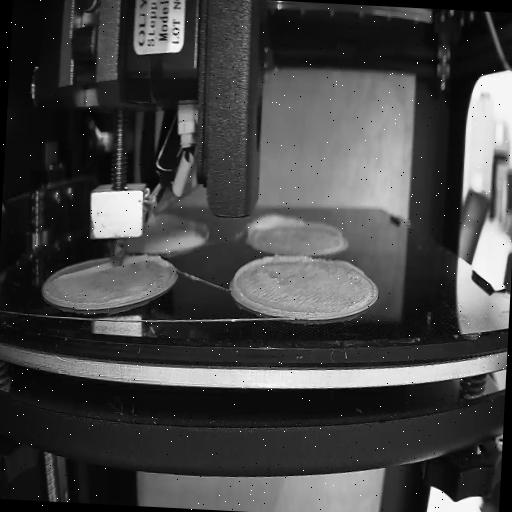over_extrusion: (230, 250, 319, 320), (242, 211, 307, 245), (53, 256, 112, 286), (330, 256, 366, 278), (123, 252, 163, 266), (309, 220, 343, 236)
